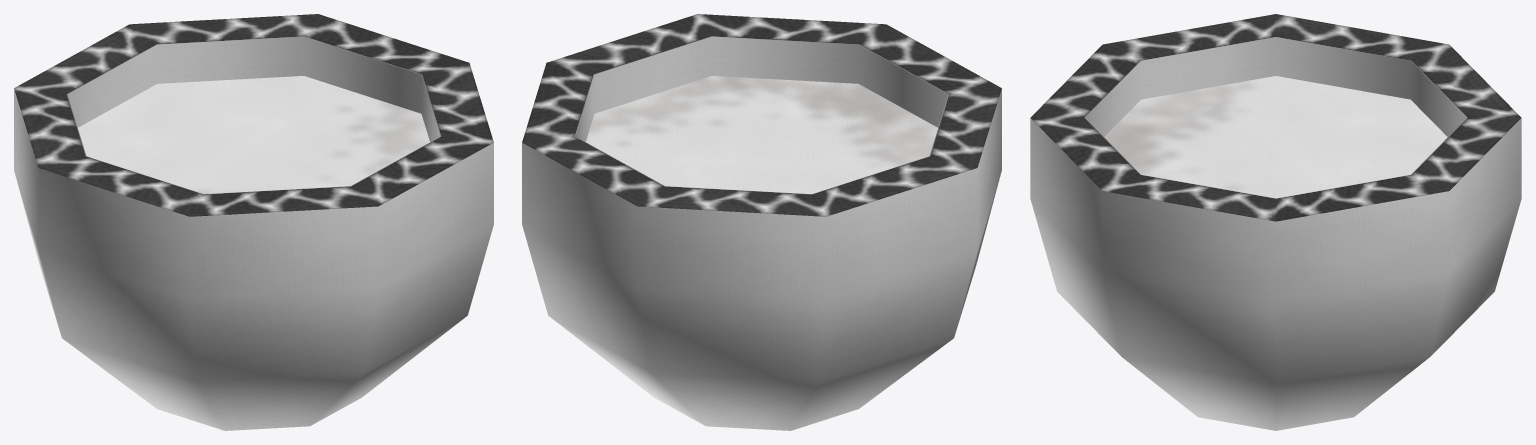
Rendered from g_SoupSoup.fbx.
The picture shows the model from 3 angles, left to right: view 1: azimuth 30°, elevation 25°; view 2: azimuth 150°, elevation 25°; view 3: azimuth 270°, elevation 25°; orthographic projection.
Visible parts, largest first — view 1: Cube; view 2: Cube; view 3: Cube.
Part boxes in pixels (x1=…): Cube: x1=14, y1=14, x2=493, y2=430; Cube: x1=522, y1=14, x2=1001, y2=430; Cube: x1=1030, y1=14, x2=1521, y2=430.
Bounding box in the file's own units: 50.32 × 50.32 × 30.11.
